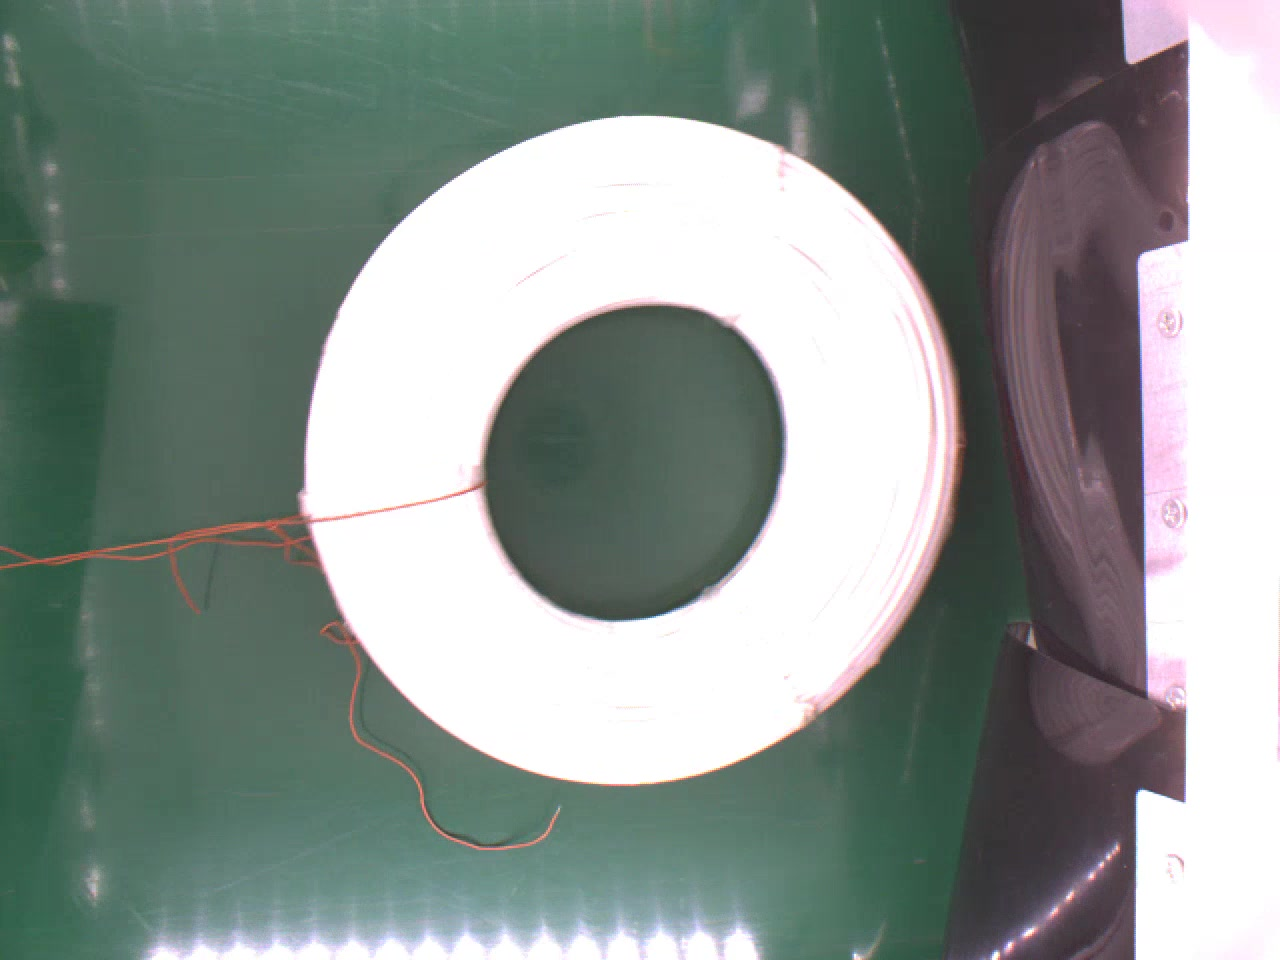white: (303, 113, 968, 787)
